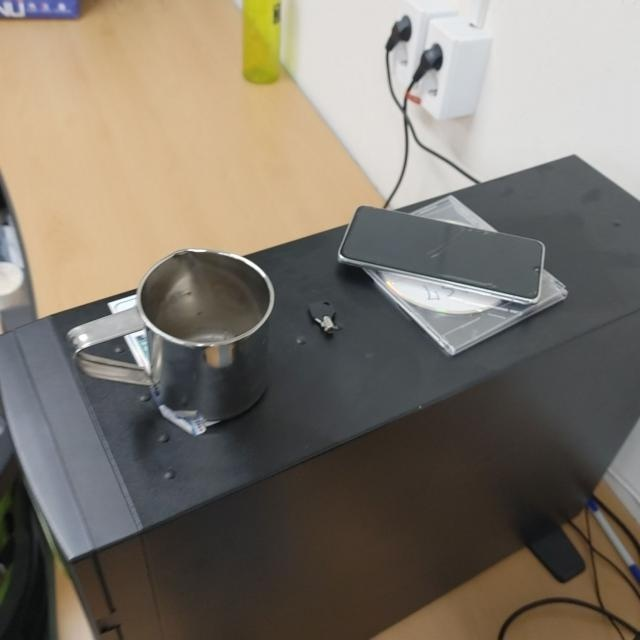cup: (67, 249, 277, 421)
phone: (337, 203, 547, 305)
